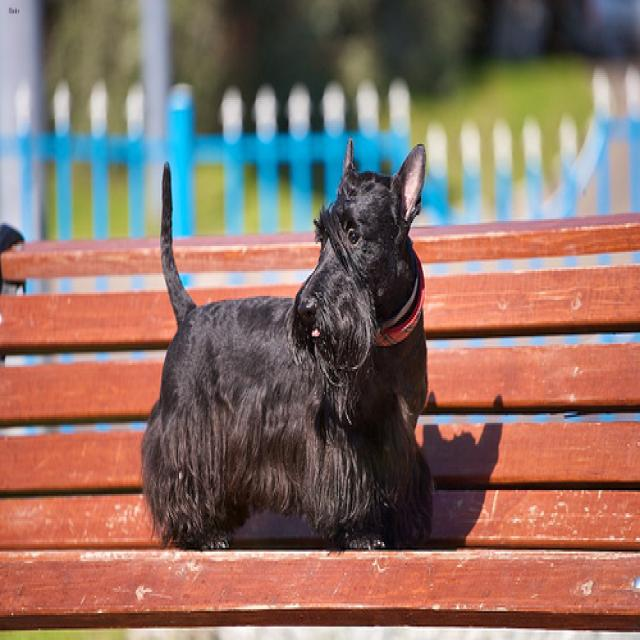dog-scottish_terrier: (132, 129, 439, 563)
